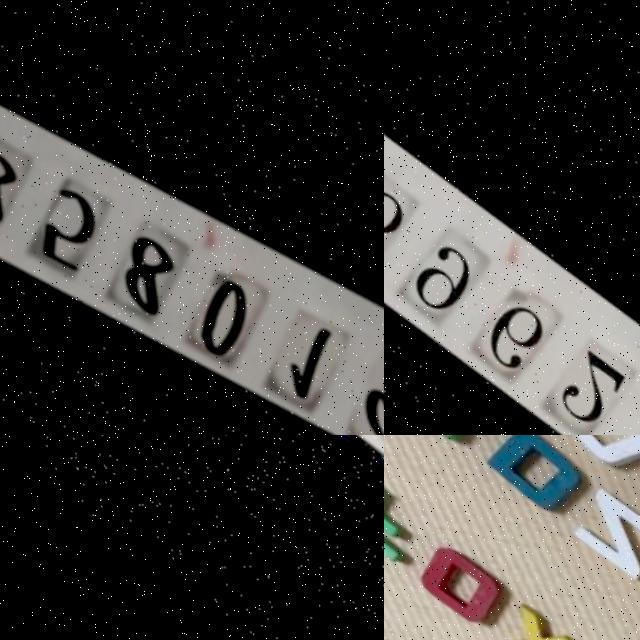0: (150, 253, 274, 377)
1: (233, 296, 356, 419)
2: (507, 317, 640, 435)
5: (0, 162, 123, 289)
6: (433, 263, 572, 400), (384, 147, 436, 289)
8: (75, 210, 198, 333), (0, 126, 39, 243)
9: (384, 207, 502, 343), (310, 334, 384, 435)
D: (477, 435, 588, 516)
F: (384, 472, 424, 565)
O: (410, 542, 504, 628)
Q: (544, 435, 640, 485)
X: (484, 598, 584, 640)
Z: (561, 479, 640, 581)
